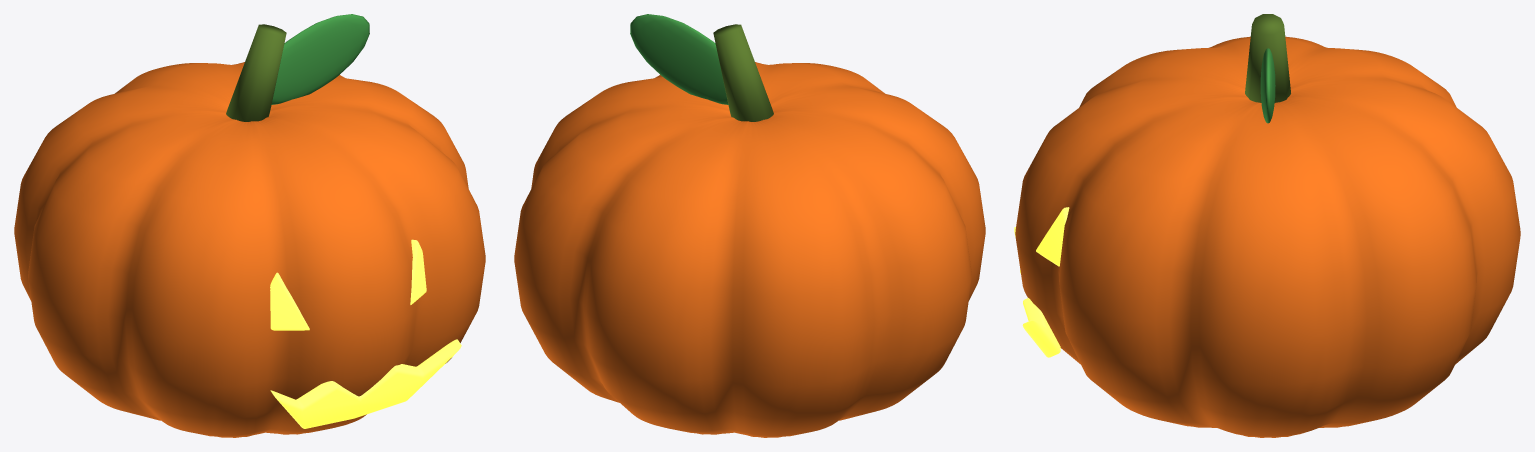
Rendered from d-pumpkin.glb.
The picture shows the model from 3 angles, left to right: view 1: azimuth 30°, elevation 25°; view 2: azimuth 150°, elevation 25°; view 3: azimuth 270°, elevation 25°; orthographic projection. The views are drawn at different scales.
Visible parts, largest first — view 1: d-pumpkin; view 2: d-pumpkin; view 3: d-pumpkin.
Boxes of the visible parts, x1,y1,x2,y2 form: d-pumpkin: (14, 14, 485, 437); d-pumpkin: (514, 14, 985, 437); d-pumpkin: (1014, 14, 1520, 437).
Bounding box in the file's own units: 0.1429 × 0.12 × 0.1432.
